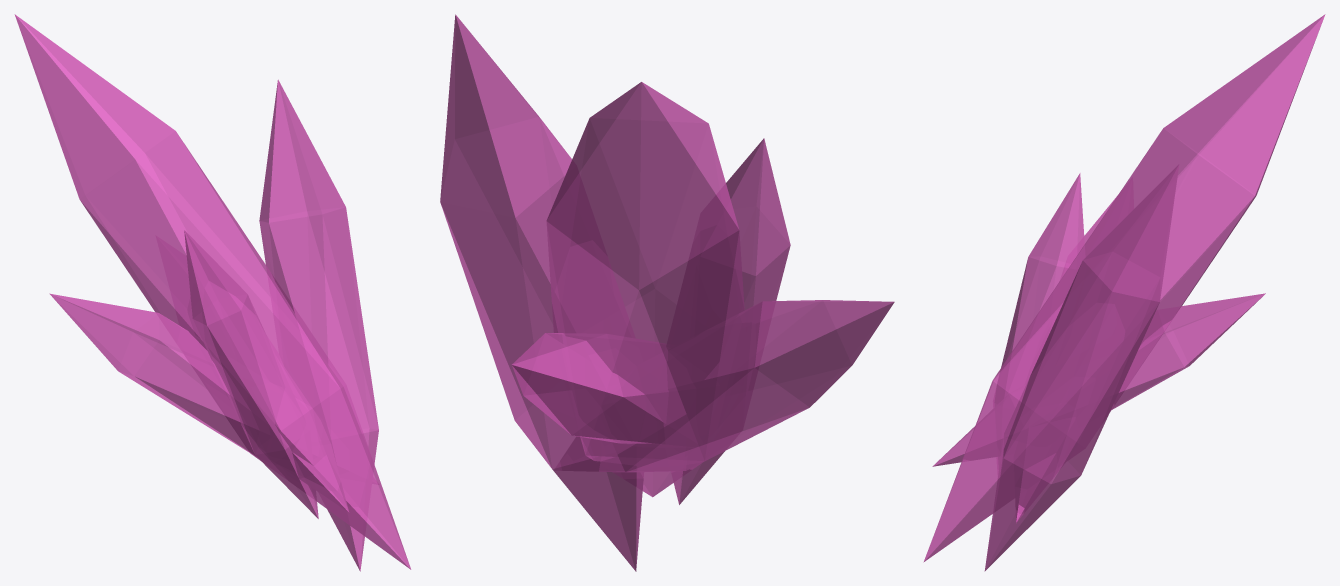
File: TransformationCrystal.fbx
The picture shows the model from 3 angles, left to right: view 1: azimuth 30°, elevation 25°; view 2: azimuth 150°, elevation 25°; view 3: azimuth 270°, elevation 25°; orthographic projection. The views are drawn at different scales.
Visible parts, largest first — view 1: MagicstoneParticle.051; view 2: MagicstoneParticle.051; view 3: MagicstoneParticle.051.
Boxes of the visible parts, box(x1,y1,x2,y2) form: MagicstoneParticle.051: box(14, 14, 411, 571); MagicstoneParticle.051: box(440, 14, 894, 571); MagicstoneParticle.051: box(923, 14, 1325, 571).
Size of the model in its own units: 1.18 by 1.86 by 1.44.
